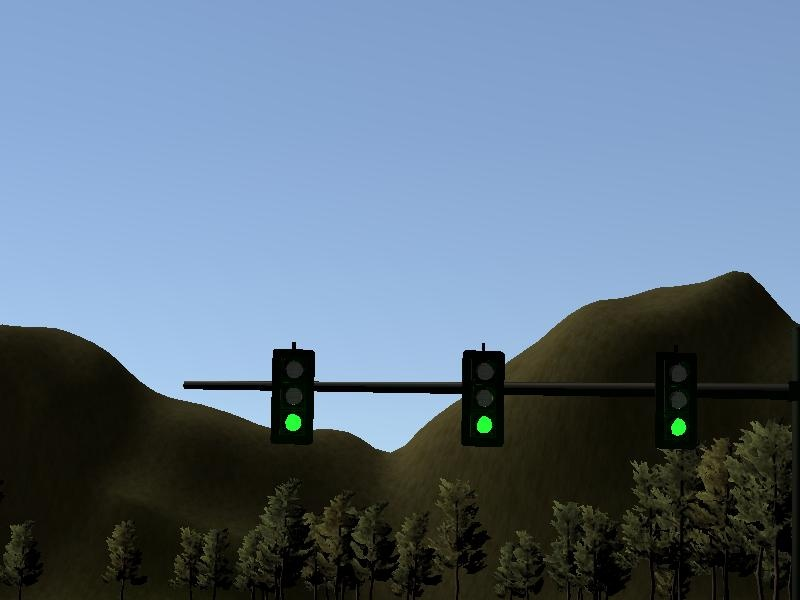GREEN: (269, 349, 315, 440), (461, 350, 503, 448), (655, 357, 699, 447)
